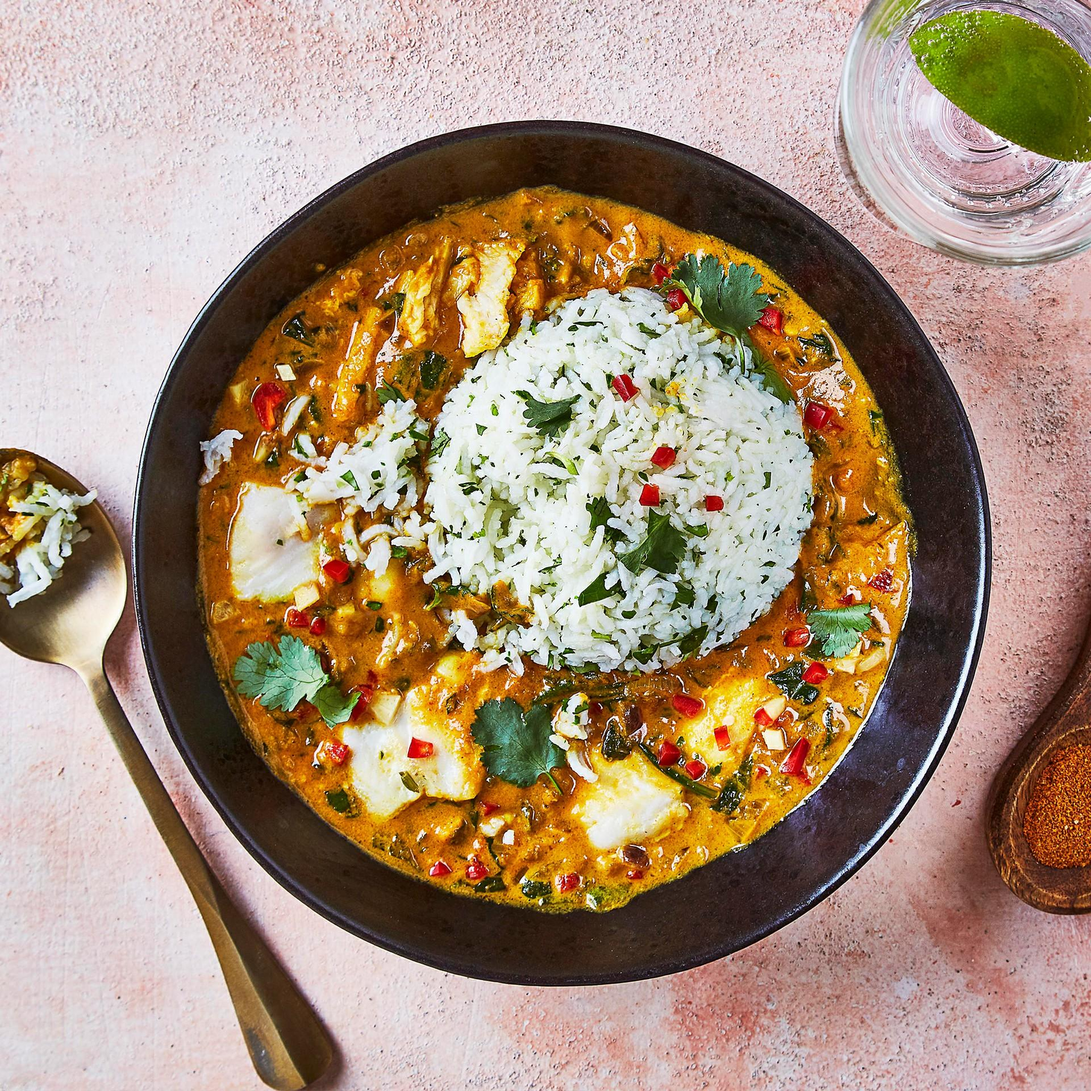FishCurry: (194, 181, 916, 920)
